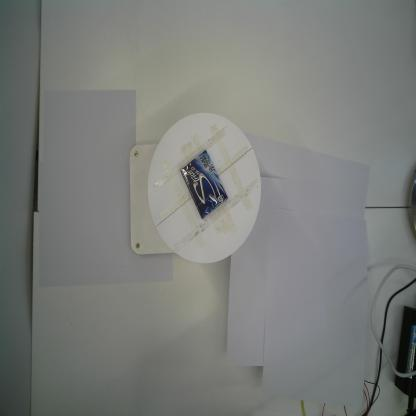Gum: (181, 149, 228, 219)
